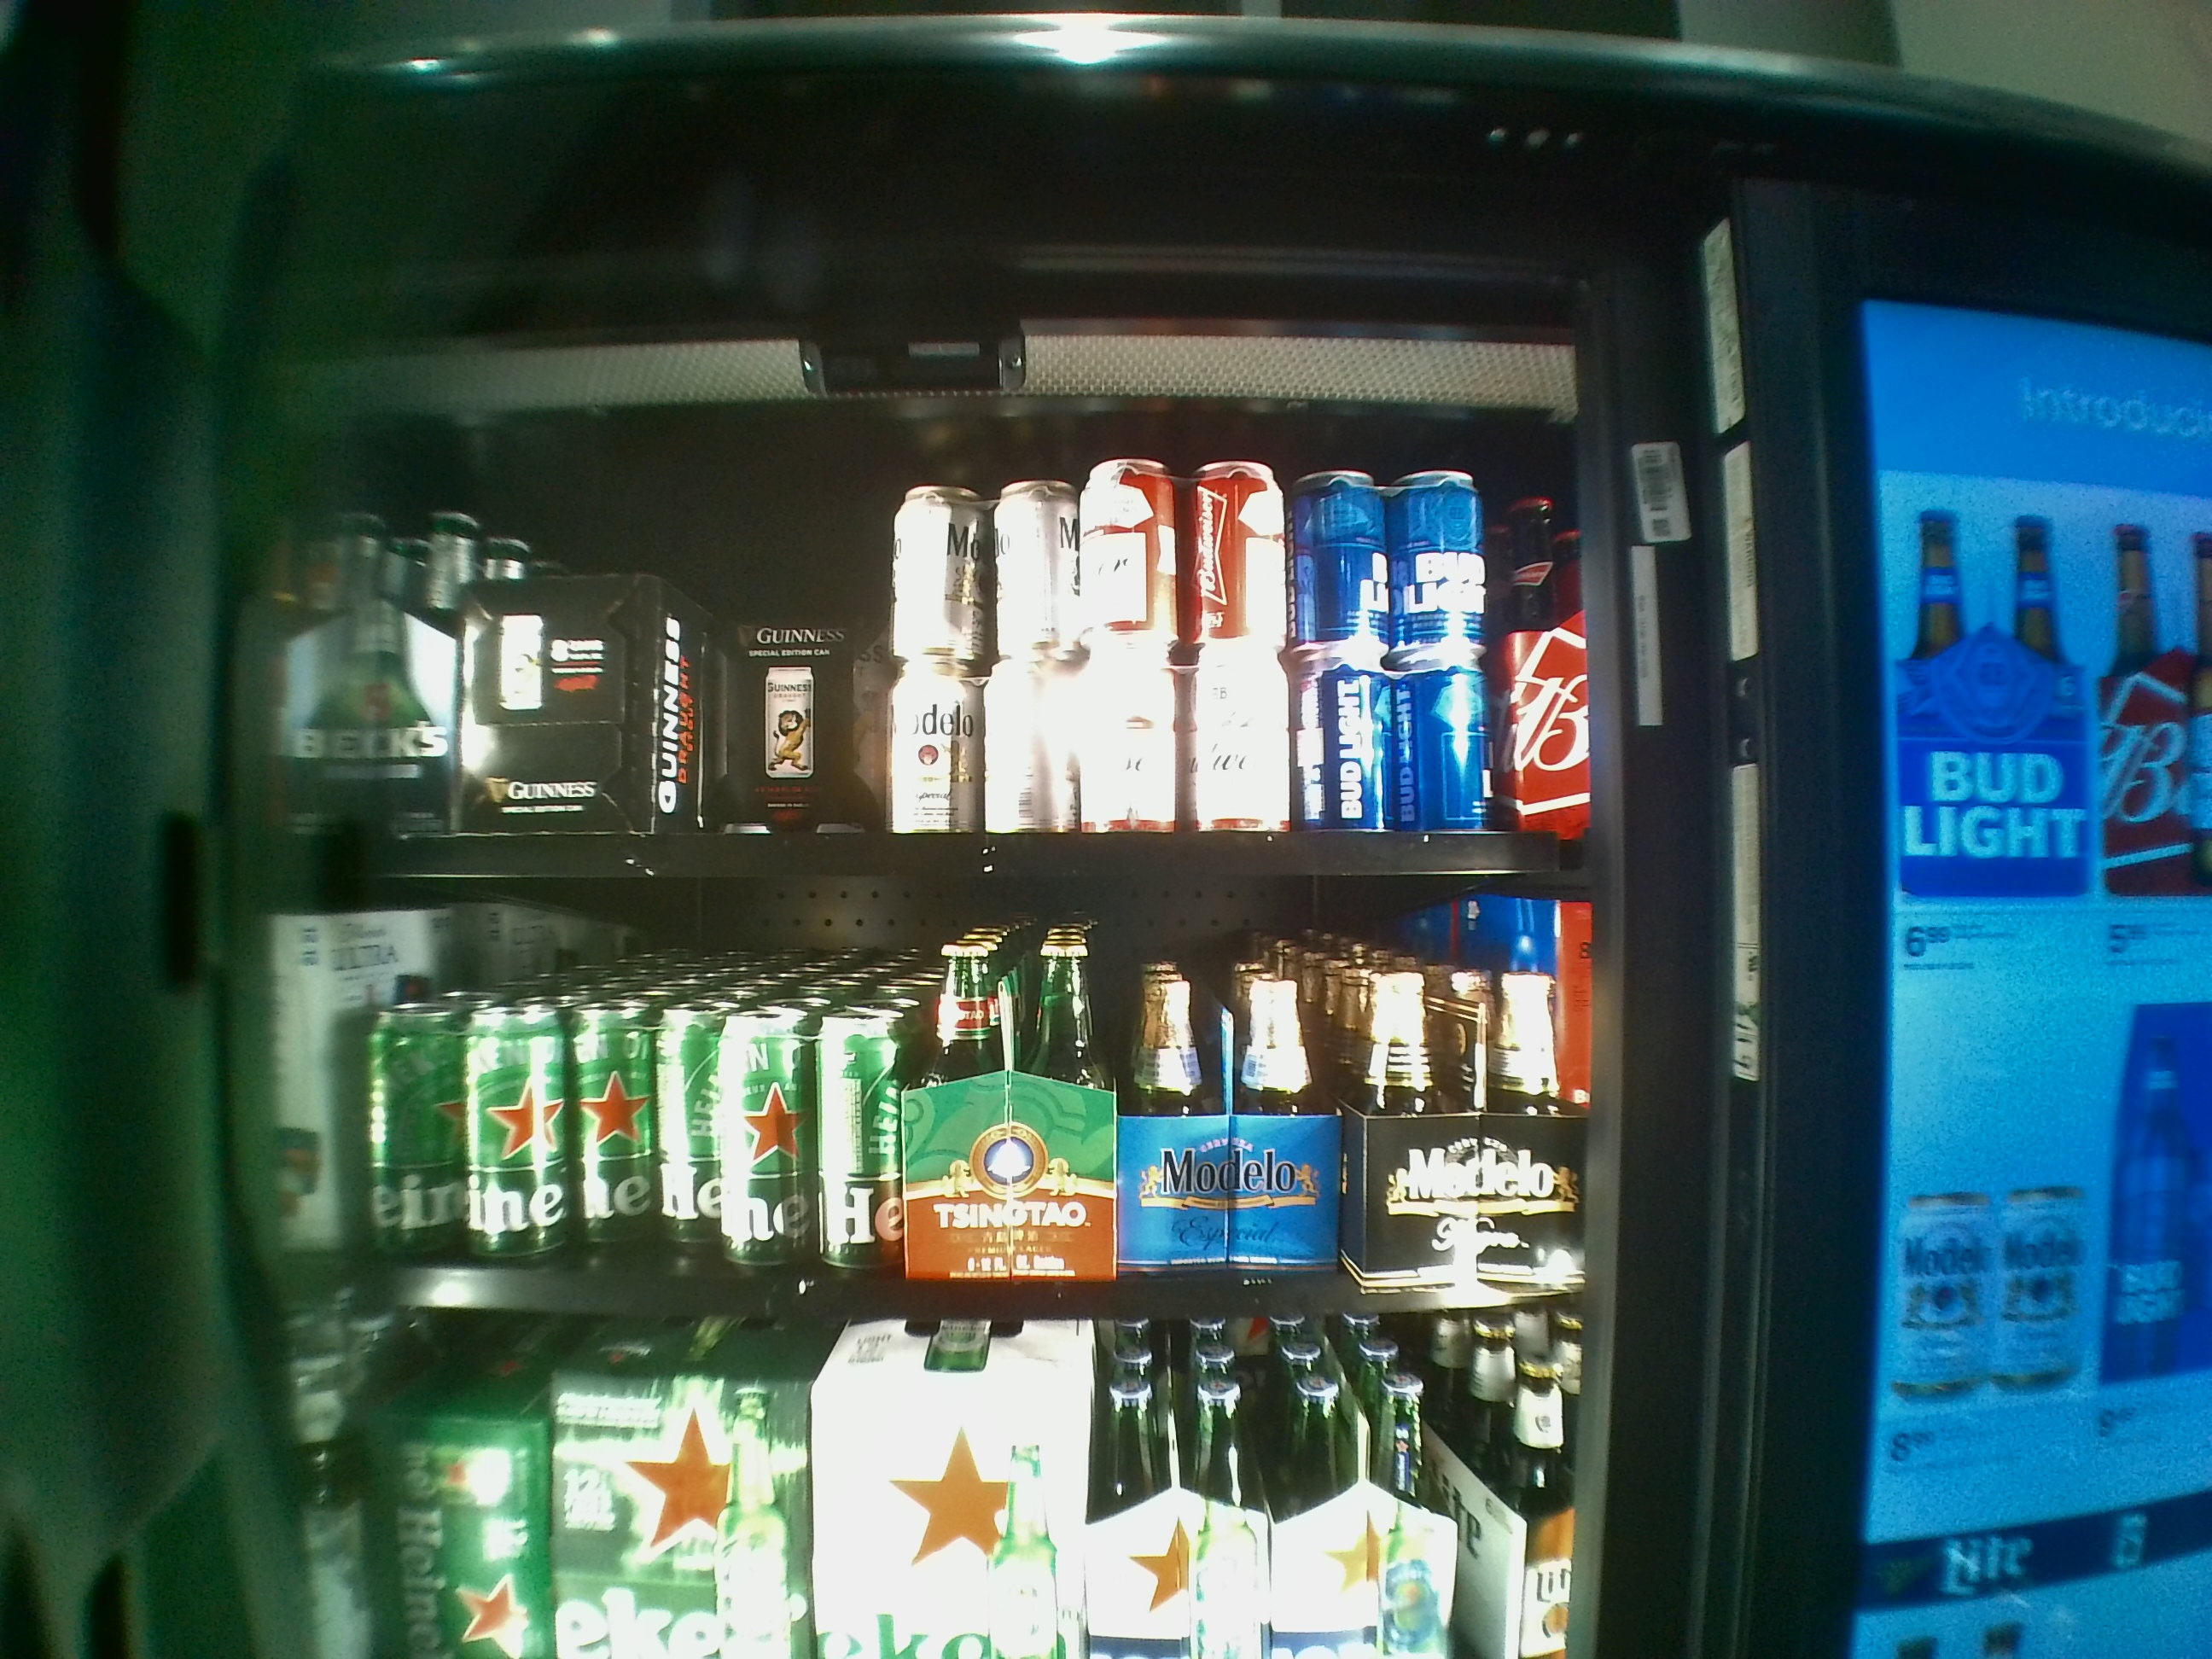shelf: (261, 410, 1578, 878), (261, 894, 1587, 1316)
